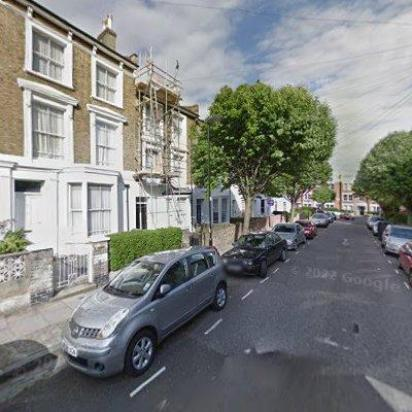moving-car: (340, 210, 356, 222)
stationary-car-onstreet: (63, 246, 232, 380), (225, 230, 287, 278), (268, 222, 308, 252), (394, 238, 412, 288), (383, 223, 411, 254), (294, 218, 318, 242), (373, 219, 389, 238), (365, 214, 381, 230), (310, 213, 328, 227), (323, 212, 334, 222)
